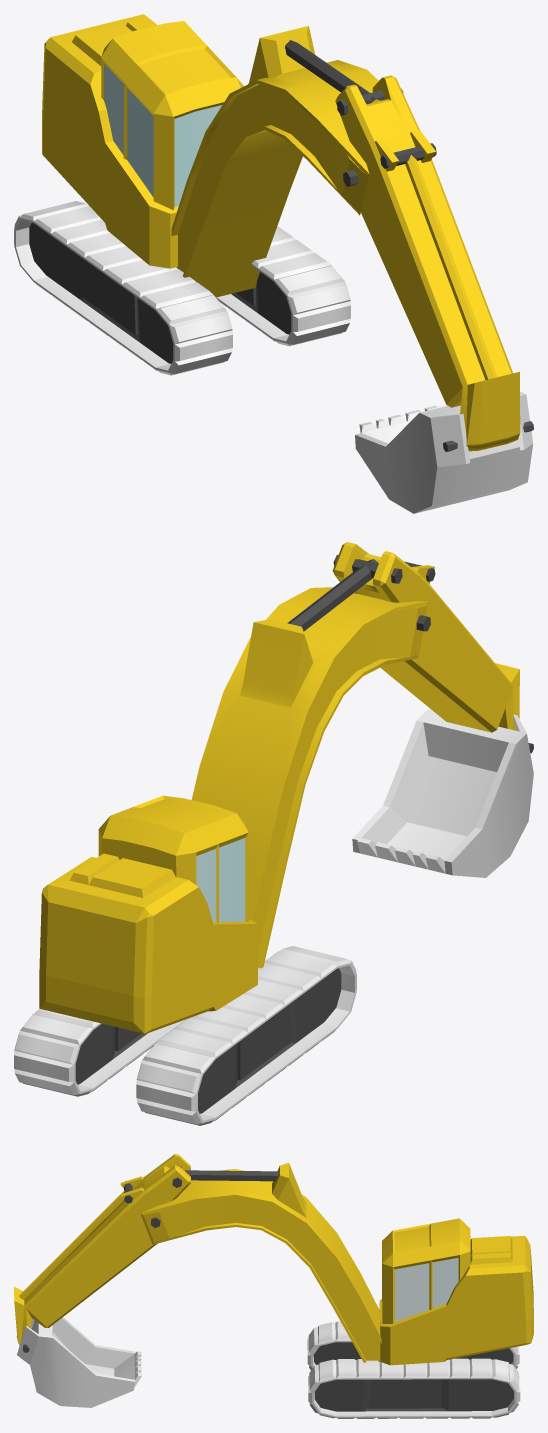
Rendered from work machine.fbx.
3 renders of one model, top to bottom at view 1: azimuth 30°, elevation 25°; view 2: azimuth 150°, elevation 25°; view 3: azimuth 270°, elevation 25°, orthographic. The views are drawn at different scales.
Parts seen in each view (by area): view 1: body, polySurface85, polySurface75, polySurface78, polySurface73, polySurface79, polySurface77, polySurface72; view 2: body, polySurface85, polySurface73, polySurface78, polySurface75, polySurface79, polySurface77, polySurface72; view 3: body, polySurface85, polySurface75, polySurface73, polySurface72, polySurface79, polySurface77, polySurface78.
Part boxes in pixels (bbox=[...]): body: bbox=[42, 14, 243, 268]; polySurface85: bbox=[171, 26, 380, 297]; polySurface75: bbox=[335, 75, 520, 451]; polySurface78: bbox=[14, 201, 232, 375]; polySurface73: bbox=[355, 391, 533, 513]; polySurface79: bbox=[216, 226, 350, 346]; polySurface77: bbox=[29, 223, 173, 363]; polySurface72: bbox=[231, 272, 291, 334]; body: bbox=[39, 795, 257, 1033]; polySurface85: bbox=[191, 559, 430, 968]; polySurface73: bbox=[352, 709, 533, 877]; polySurface78: bbox=[136, 946, 356, 1125]; polySurface75: bbox=[332, 542, 519, 732]; polySurface79: bbox=[14, 1008, 186, 1096]; polySurface77: bbox=[198, 968, 341, 1113]; polySurface72: bbox=[75, 1023, 147, 1084]; body: bbox=[379, 1218, 533, 1365]; polySurface85: bbox=[140, 1162, 381, 1362]; polySurface75: bbox=[14, 1154, 190, 1345]; polySurface73: bbox=[16, 1317, 141, 1407]; polySurface72: bbox=[314, 1379, 513, 1411]; polySurface79: bbox=[308, 1358, 520, 1418]; polySurface77: bbox=[313, 1342, 513, 1364]; polySurface78: bbox=[307, 1321, 519, 1370].
Size of the model in its own units: 32.36 by 62.06 by 126.
1 material, 1 textured.
